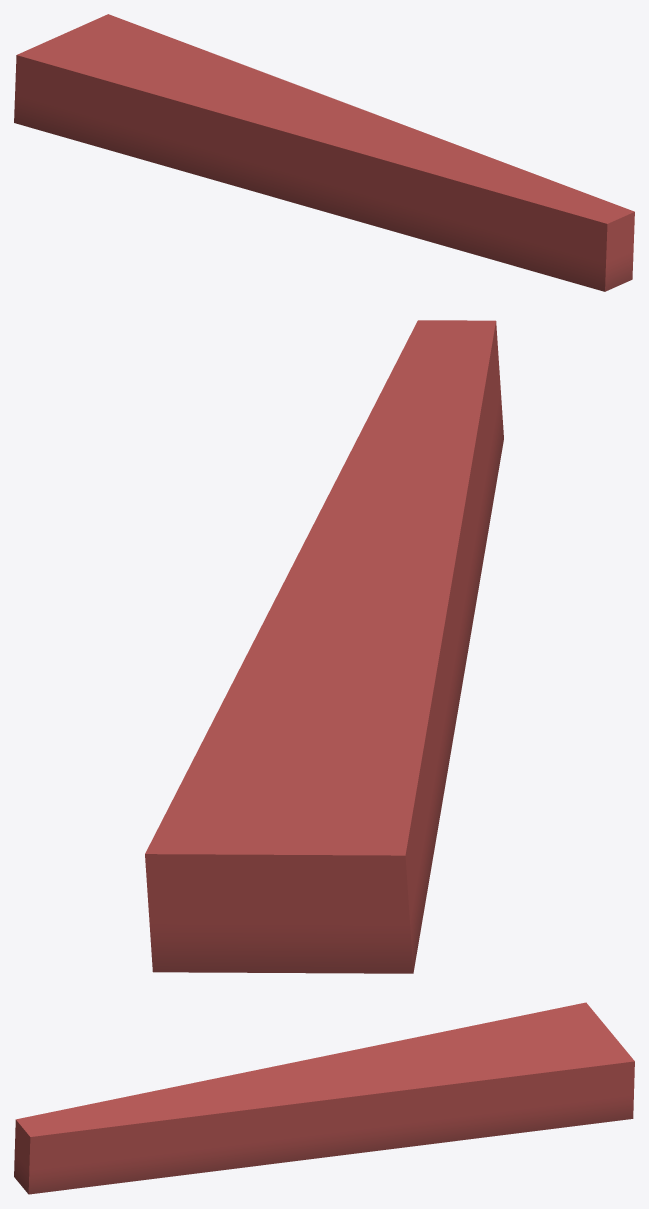
Rendered from PlatTri01.031.glb.
3 renders of one model, top to bottom at view 1: azimuth 30°, elevation 25°; view 2: azimuth 150°, elevation 25°; view 3: azimuth 270°, elevation 25°, orthographic. The views are drawn at different scales.
Visible parts, largest first — view 1: PlatTri01.031; view 2: PlatTri01.031; view 3: PlatTri01.031.
Boxes of the visible parts, bbox=[...] form: PlatTri01.031: bbox=[14, 14, 634, 291]; PlatTri01.031: bbox=[145, 320, 503, 973]; PlatTri01.031: bbox=[14, 1002, 634, 1194].
Size of what is drawn, in the model's own units: 5.61 by 1.29 by 10.98.
Materials: 1 (1 with a texture image).
